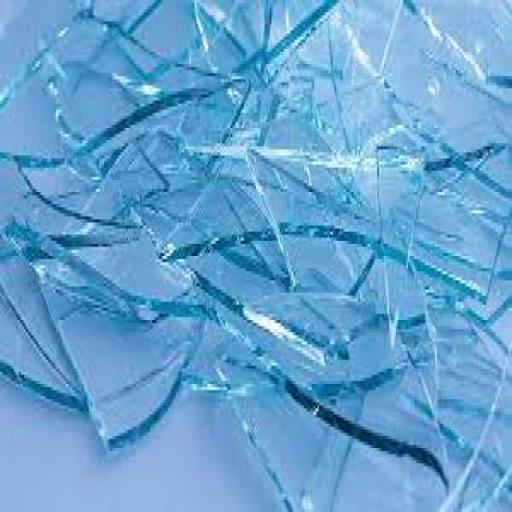glass: (0, 0, 512, 512), (76, 321, 194, 450), (47, 220, 195, 322), (322, 4, 422, 154), (368, 130, 431, 368), (0, 237, 86, 398), (180, 130, 432, 184), (413, 2, 510, 108), (412, 80, 511, 180), (51, 64, 149, 155), (241, 22, 300, 163), (142, 174, 251, 249), (2, 18, 78, 125), (250, 98, 337, 187), (172, 82, 254, 156), (10, 152, 99, 217), (97, 131, 176, 202), (190, 0, 256, 78), (442, 177, 512, 245), (260, 0, 313, 82), (338, 12, 386, 90), (54, 9, 110, 64), (48, 222, 154, 250), (373, 2, 409, 84), (4, 213, 60, 264), (85, 0, 153, 35), (408, 214, 472, 244), (112, 70, 164, 100), (419, 8, 449, 52), (294, 59, 344, 85), (374, 148, 385, 254), (192, 1, 212, 58), (198, 1, 228, 26), (158, 239, 177, 263), (0, 79, 13, 111), (56, 26, 70, 40)
